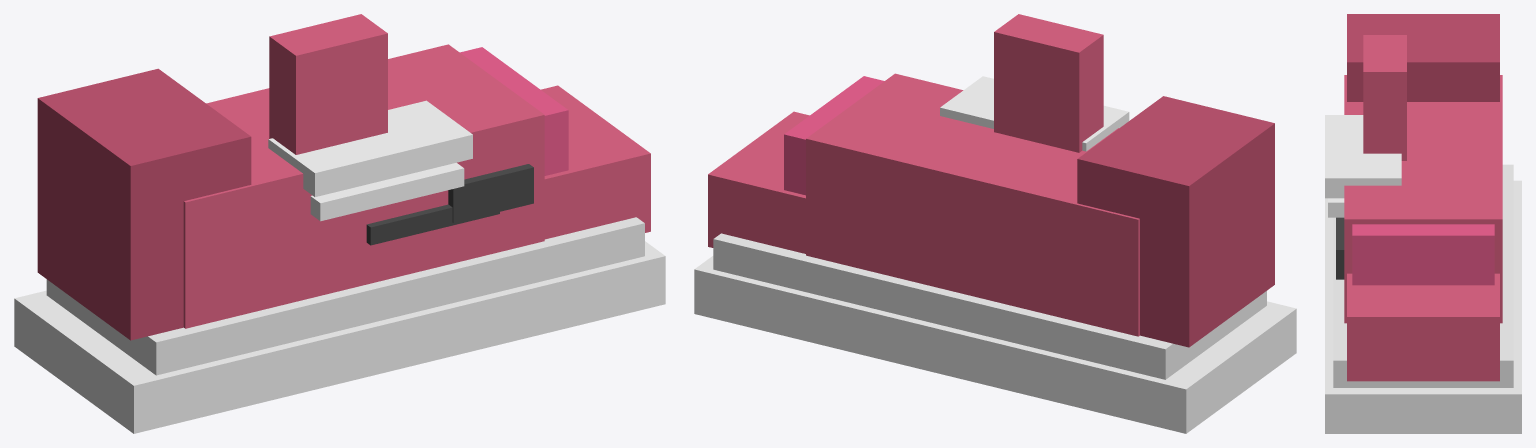
Rendered from shoe.glb.
3 views of the same model, side by side, from view 1: azimuth 30°, elevation 25°; view 2: azimuth 150°, elevation 25°; view 3: azimuth 270°, elevation 25° (orthographic). The views are drawn at different scales.
Visible parts, largest first — view 1: upper, heel, sole, midsole, tongue, toe, laces, lace_2, upper_mesh, logo, swoosh; view 2: upper, heel, sole, midsole, tongue, toe, upper_mesh, laces; view 3: upper, toe, sole, heel, upper_mesh, midsole, tongue, laces, logo, lace_2.
Boxes of the visible parts, x1,y1,x2,y2 form: upper: [183, 44, 544, 328]; heel: [37, 68, 251, 340]; sole: [14, 241, 665, 433]; midsole: [46, 217, 644, 375]; tongue: [269, 14, 387, 154]; toe: [541, 85, 650, 239]; laces: [268, 100, 472, 196]; lace_2: [310, 162, 464, 221]; upper_mesh: [460, 47, 568, 175]; logo: [448, 164, 533, 222]; swoosh: [366, 204, 499, 245]; upper: [806, 73, 1139, 336]; heel: [1077, 96, 1274, 347]; sole: [694, 256, 1296, 433]; midsole: [713, 233, 1266, 379]; tongue: [994, 14, 1103, 152]; toe: [708, 111, 809, 253]; upper_mesh: [784, 76, 884, 195]; laces: [940, 76, 1129, 151]; upper: [1344, 75, 1502, 323]; toe: [1347, 273, 1499, 381]; sole: [1325, 180, 1521, 433]; heel: [1347, 14, 1499, 101]; upper_mesh: [1352, 224, 1494, 285]; midsole: [1333, 164, 1513, 387]; tongue: [1363, 35, 1406, 160]; laces: [1325, 115, 1401, 198]; logo: [1336, 217, 1344, 279]; lace_2: [1328, 198, 1344, 217].
Size of the model in its own units: 1.85 by 1.05 by 0.72.
